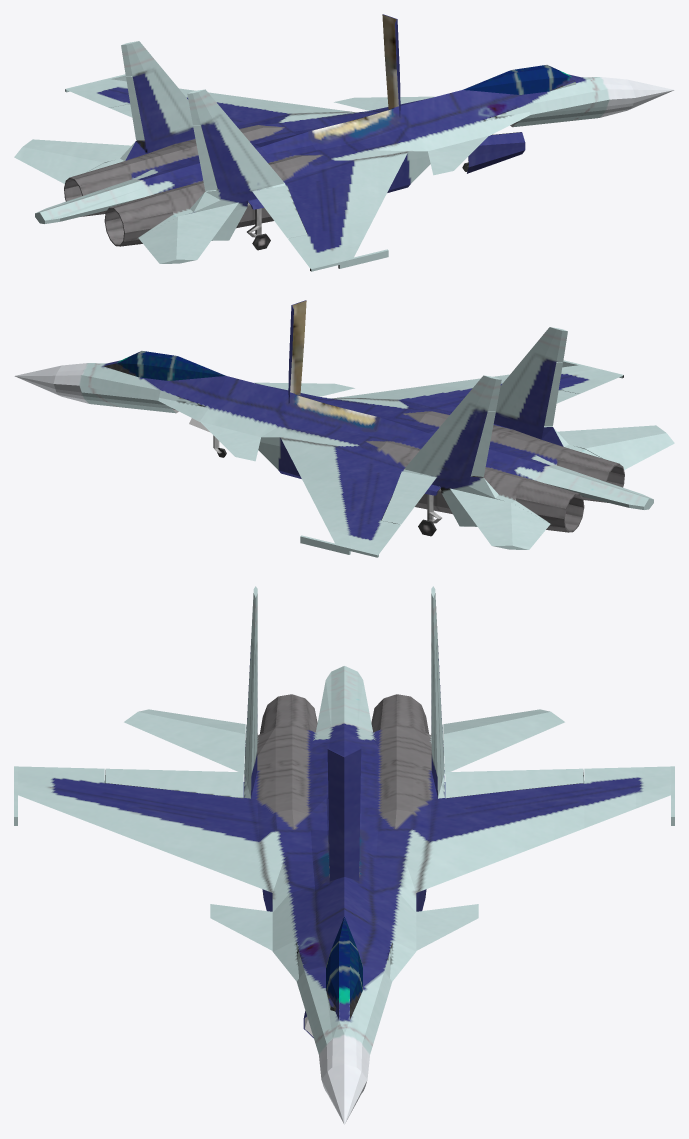
The model's file is Su-37Animated.fbx.
3 views of the same model, one above another, from view 1: azimuth 30°, elevation 25°; view 2: azimuth 150°, elevation 25°; view 3: azimuth 270°, elevation 25° (orthographic). The views are drawn at different scales.
Visible parts, largest first — view 1: Куб.001; view 2: Куб.001; view 3: Куб.001.
Boxes of the visible parts, <box> form: Куб.001: <box>14,14,674,271</box>; Куб.001: <box>14,300,674,557</box>; Куб.001: <box>14,586,674,1124</box>.
Size of the model in its own units: 497 by 133 by 334.
